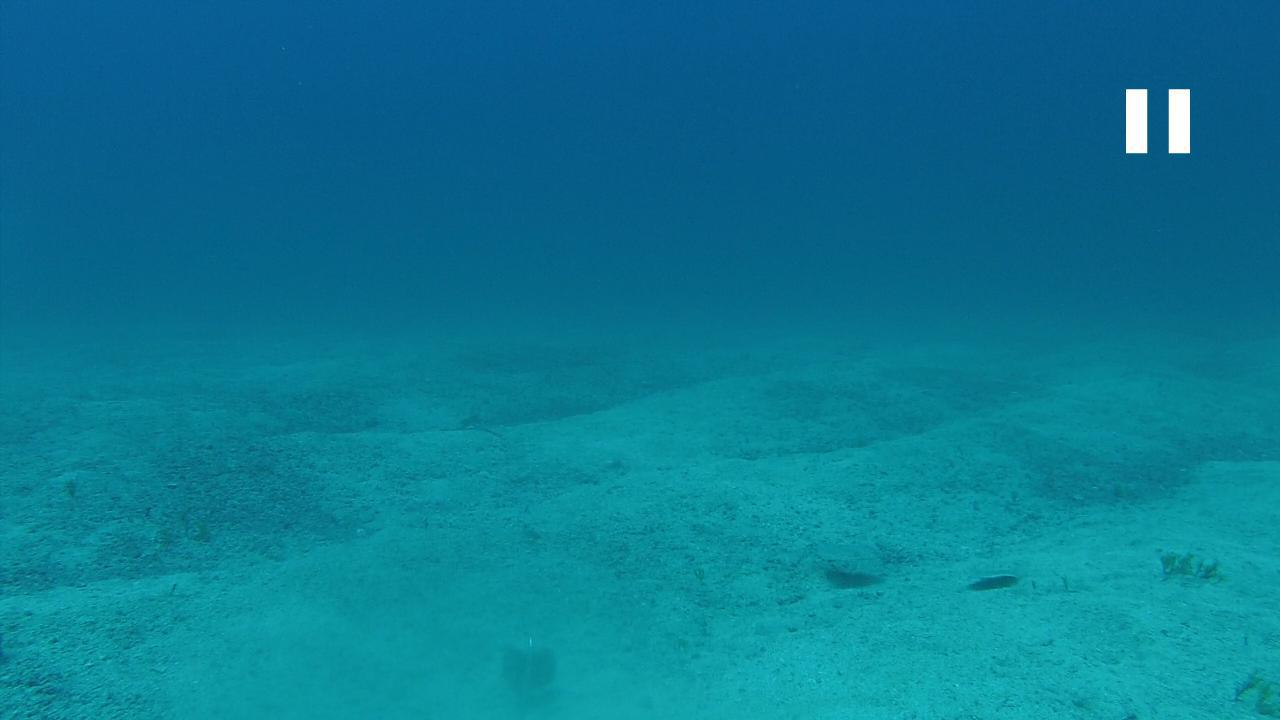bothus: (806, 538, 885, 568), (955, 560, 1024, 588)
